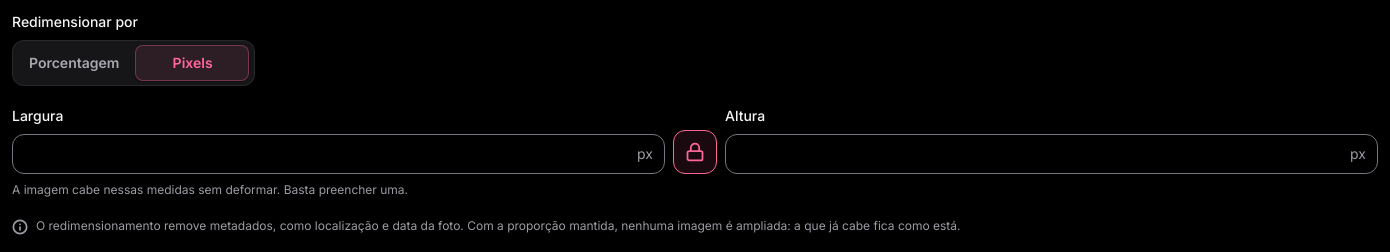
Test: ResizeOptions › os campos guardam só algarismos e anunciam a unidade
In the field labelled "Largura": [338, 154] box x1=12 y1=134 x2=665 y2=174, type "1.920 px"
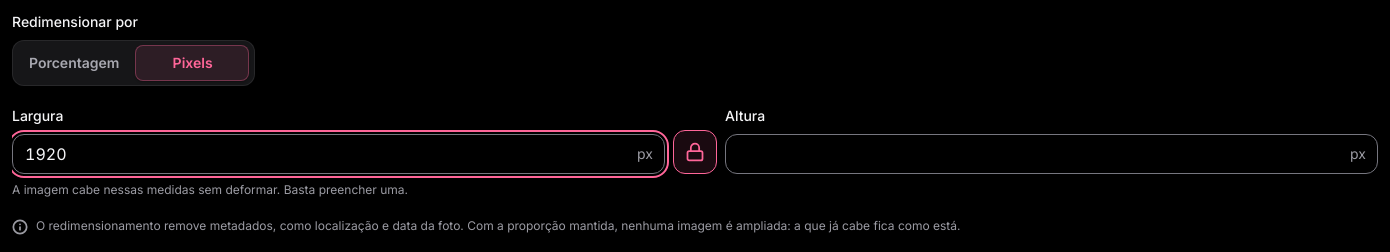
Check: the field labelled "Largura" holds "1920", box x1=12 y1=134 x2=665 y2=174
